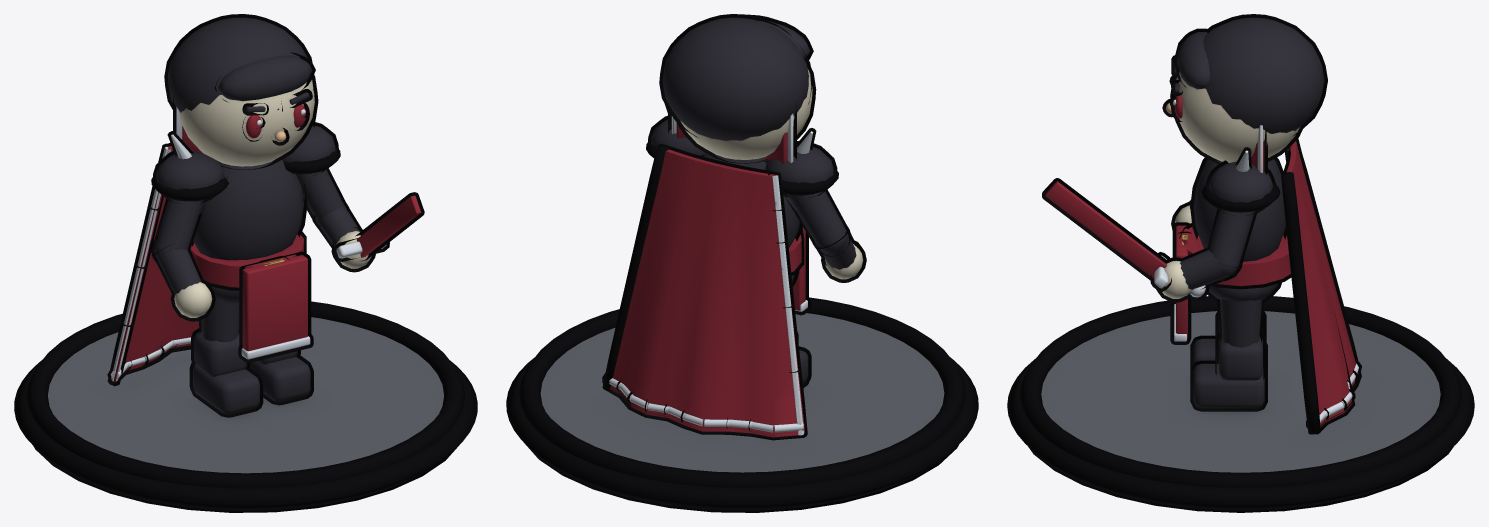
Rendered from blood_knight_s2.fbx.
3 renders of one model, left to right at view 1: azimuth 30°, elevation 25°; view 2: azimuth 150°, elevation 25°; view 3: azimuth 270°, elevation 25°, orthographic.
Parts seen in each view (by area): view 1: blood_knight_s2; view 2: blood_knight_s2; view 3: blood_knight_s2.
Part boxes in pixels (x1,y1,x2,y2): blood_knight_s2: (14, 14, 477, 512); blood_knight_s2: (506, 14, 978, 512); blood_knight_s2: (1007, 14, 1474, 512).
Size of the model in its own units: 1.58 by 1.48 by 1.58.
2 materials, 1 textured.
